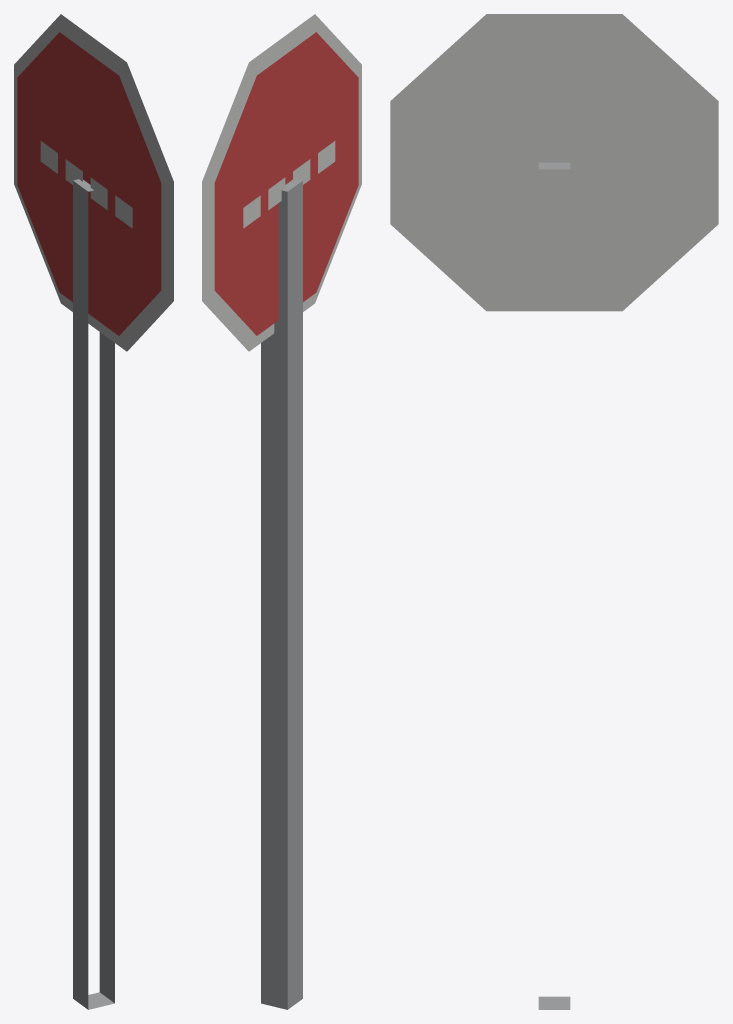
File: sign_stop.glb
3 renders of one model, left to right at view 1: azimuth 30°, elevation 25°; view 2: azimuth 150°, elevation 25°; view 3: azimuth 270°, elevation 25°, orthographic. The views are drawn at different scales.
Visible parts, largest first — view 1: asset; view 2: asset; view 3: asset.
Part boxes in pixels (box(x1,y1,x2,y2)): asset: box(14, 14, 173, 1009); asset: box(202, 14, 361, 1009); asset: box(390, 14, 718, 1009).
Size of the model in its own units: 0.08 by 2.77 by 0.8315.
